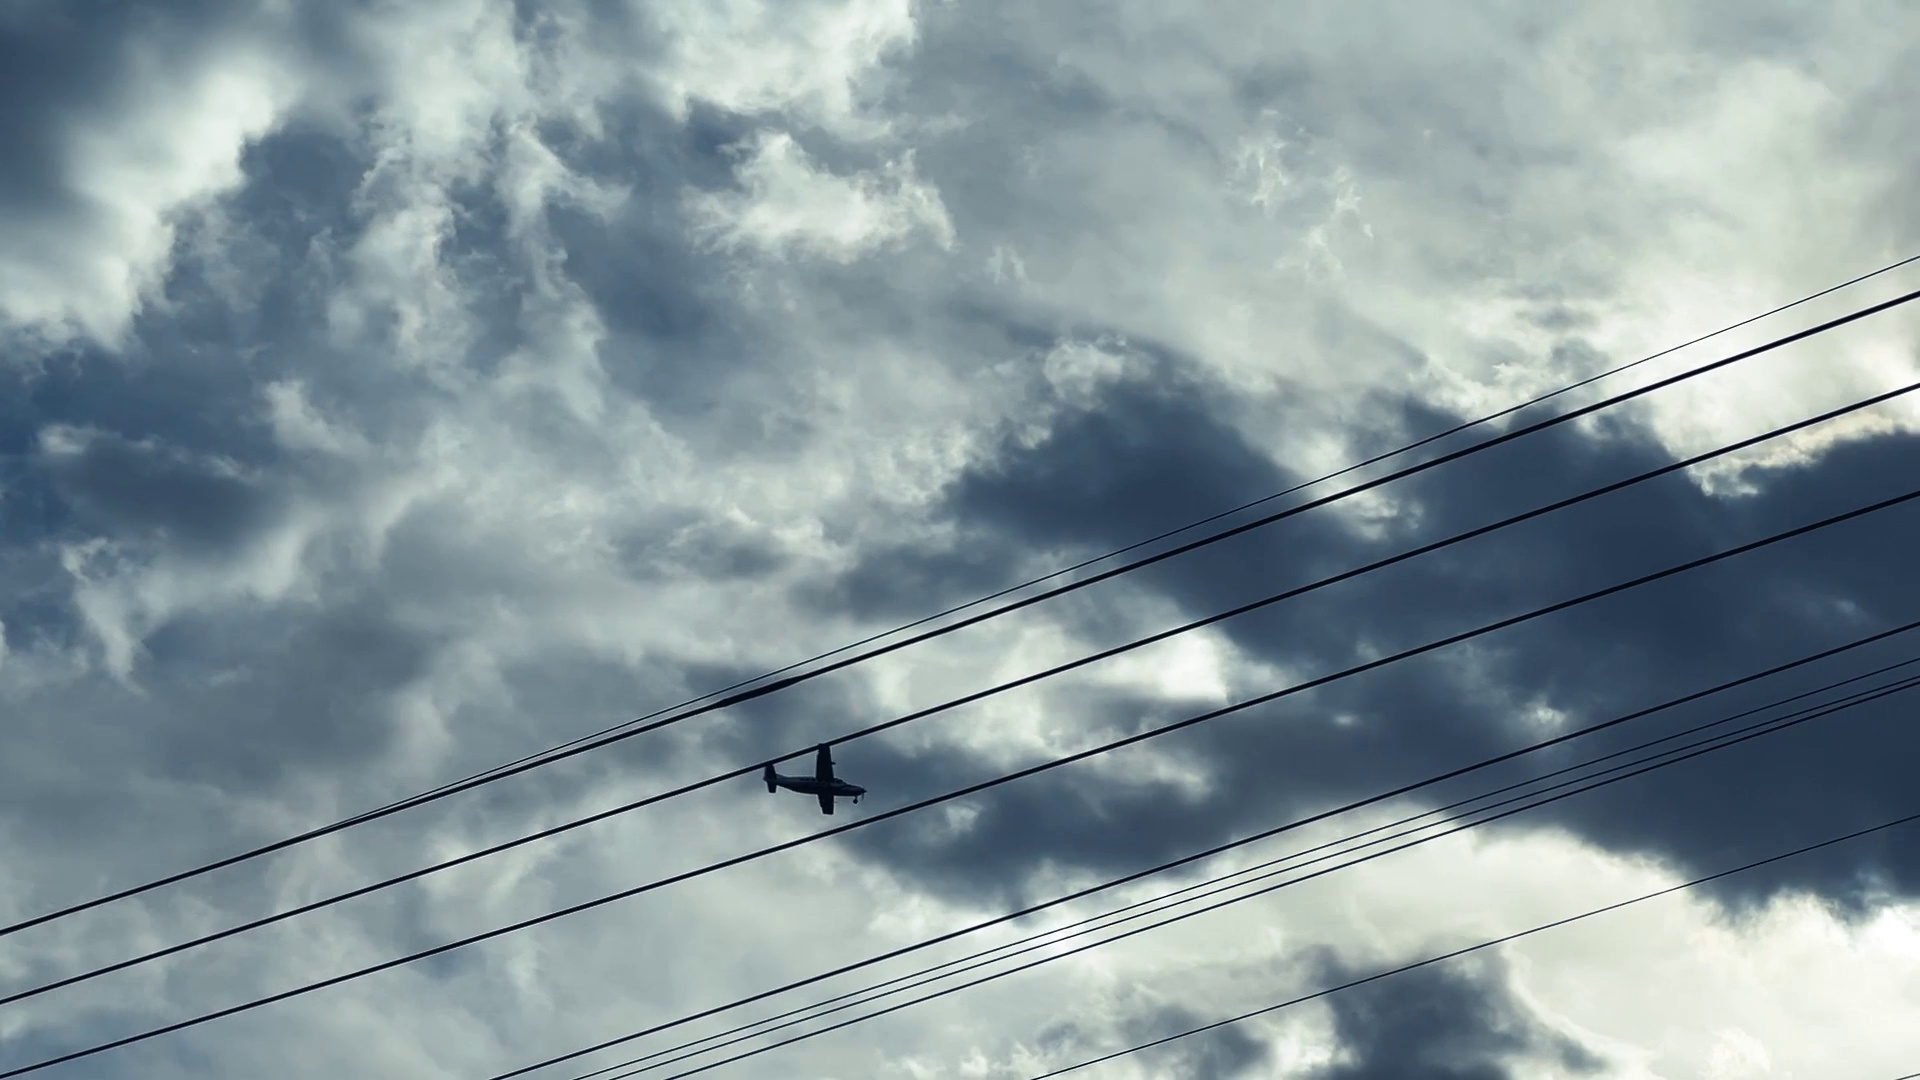plane: (762, 744, 864, 818)
